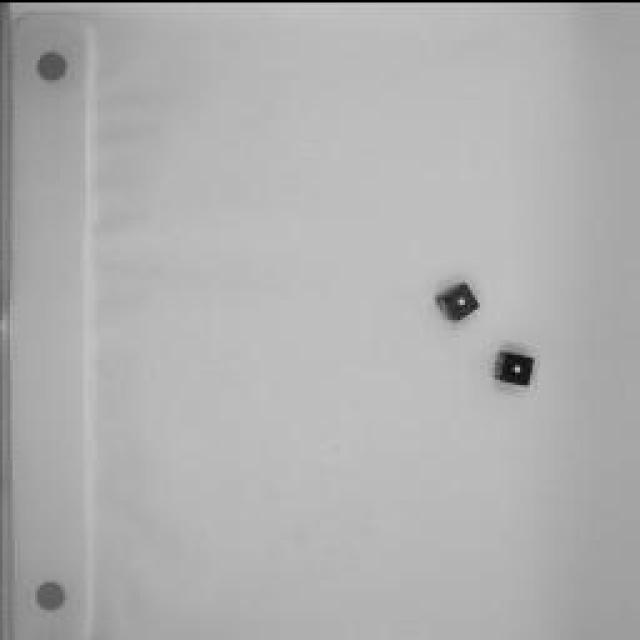dice_1: (430, 275, 485, 325), (490, 345, 540, 390)
